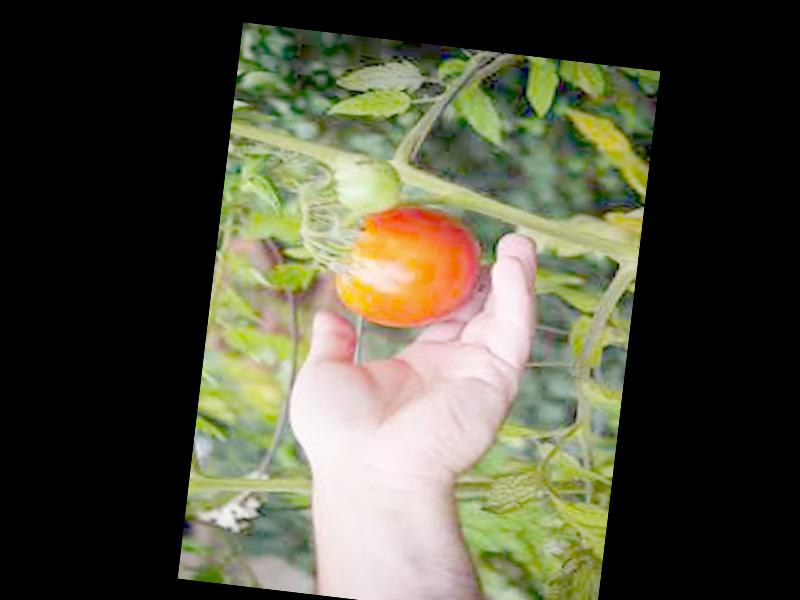Tomato: (326, 194, 485, 336)
